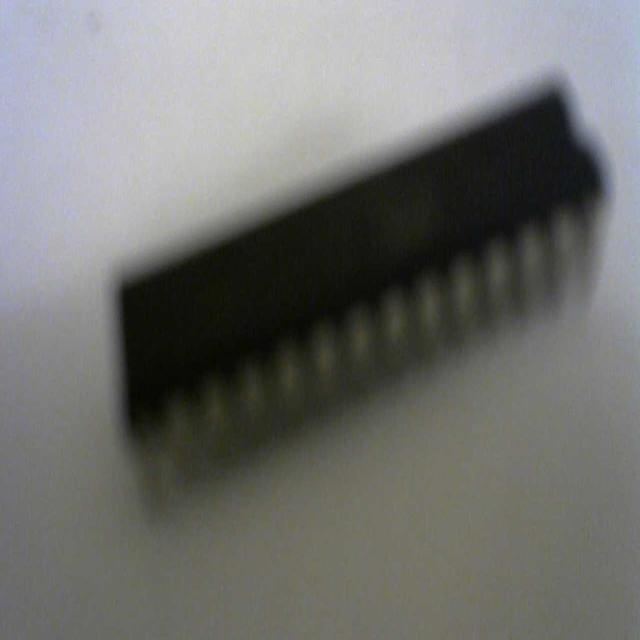atmega: (108, 74, 610, 494)
